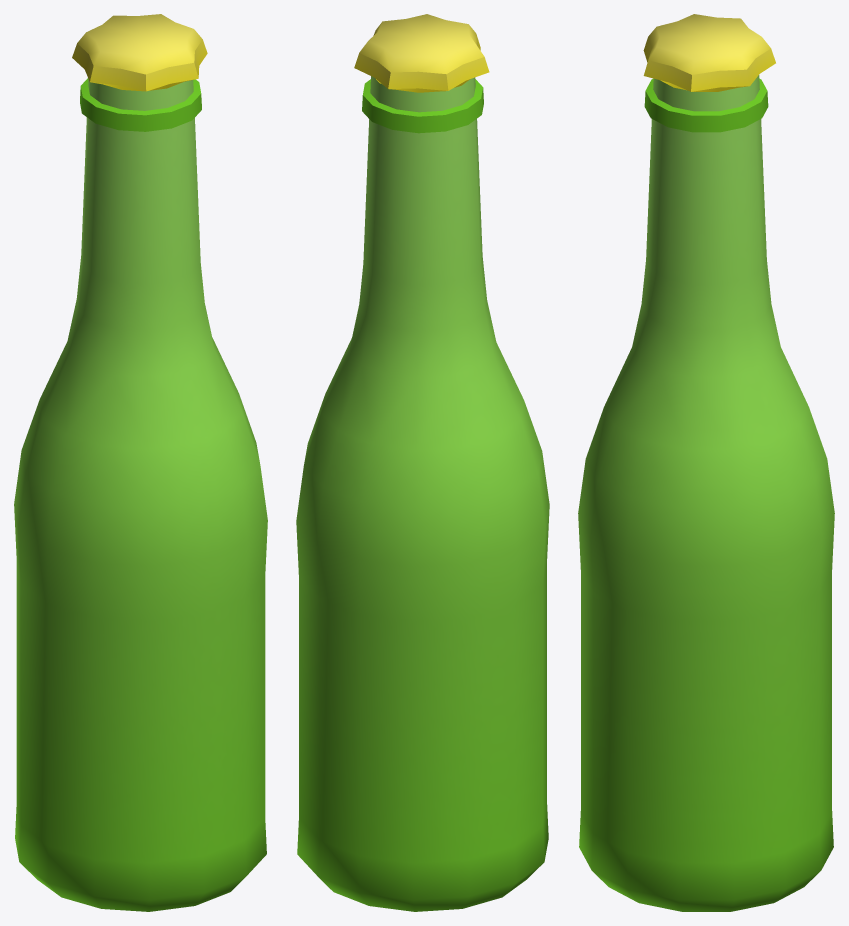
Rendered from Bottle.glb.
3 views of the same model, side by side, from view 1: azimuth 30°, elevation 25°; view 2: azimuth 150°, elevation 25°; view 3: azimuth 270°, elevation 25° (orthographic).
Visible parts, largest first — view 1: Bear_Bottle; view 2: Bear_Bottle; view 3: Bear_Bottle.
Part boxes in pixels (box(x1,y1,x2,y2)): Bear_Bottle: box(14, 14, 267, 911); Bear_Bottle: box(296, 14, 549, 911); Bear_Bottle: box(578, 14, 834, 911).
Bounding box in the file's own units: 0.5534 × 2.03 × 0.5677.
1 material, 1 textured.
